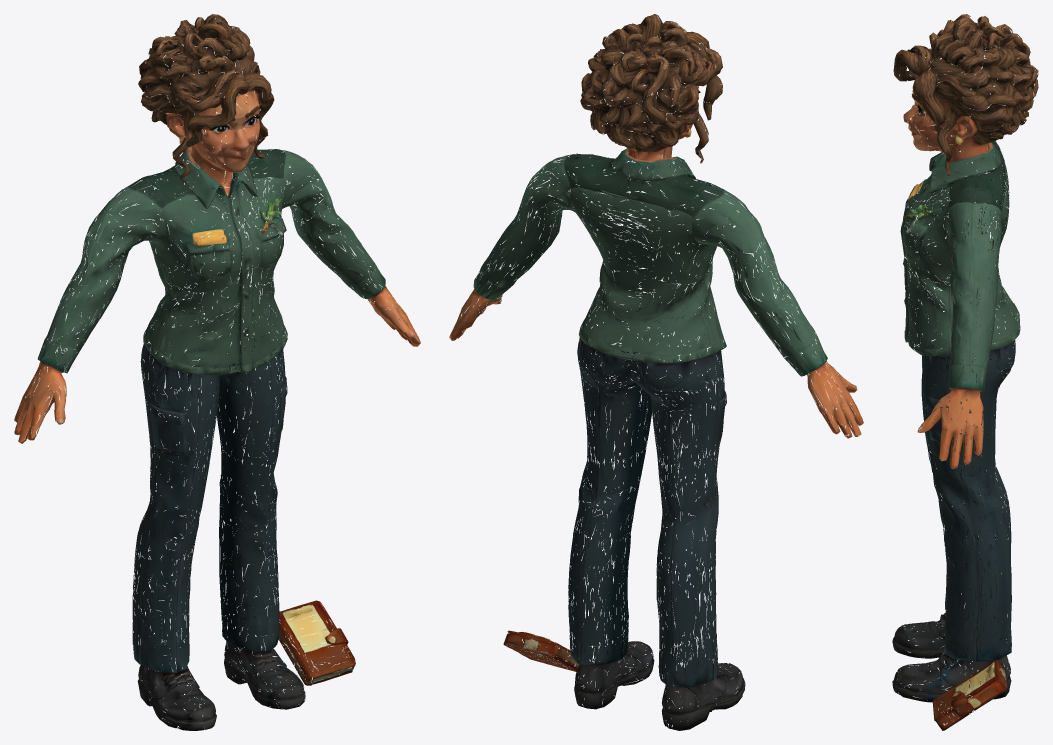
Rendered from juniper-owner.glb.
3 views of the same model, side by side, from view 1: azimuth 30°, elevation 25°; view 2: azimuth 150°, elevation 25°; view 3: azimuth 270°, elevation 25° (orthographic). The views are drawn at different scales.
Parts seen in each view (by area): view 1: tripo_node_69fb4ffc-dab7-493e-addd-07f601f3e1ad; view 2: tripo_node_69fb4ffc-dab7-493e-addd-07f601f3e1ad; view 3: tripo_node_69fb4ffc-dab7-493e-addd-07f601f3e1ad.
Part boxes in pixels (x1,y1,x2,y2): tripo_node_69fb4ffc-dab7-493e-addd-07f601f3e1ad: [14, 14, 420, 730]; tripo_node_69fb4ffc-dab7-493e-addd-07f601f3e1ad: [449, 14, 863, 730]; tripo_node_69fb4ffc-dab7-493e-addd-07f601f3e1ad: [892, 14, 1038, 730].
Bounding box in the file's own units: 0.6073 × 0.9815 × 0.1987.
Materials: 1 (1 with a texture image).
